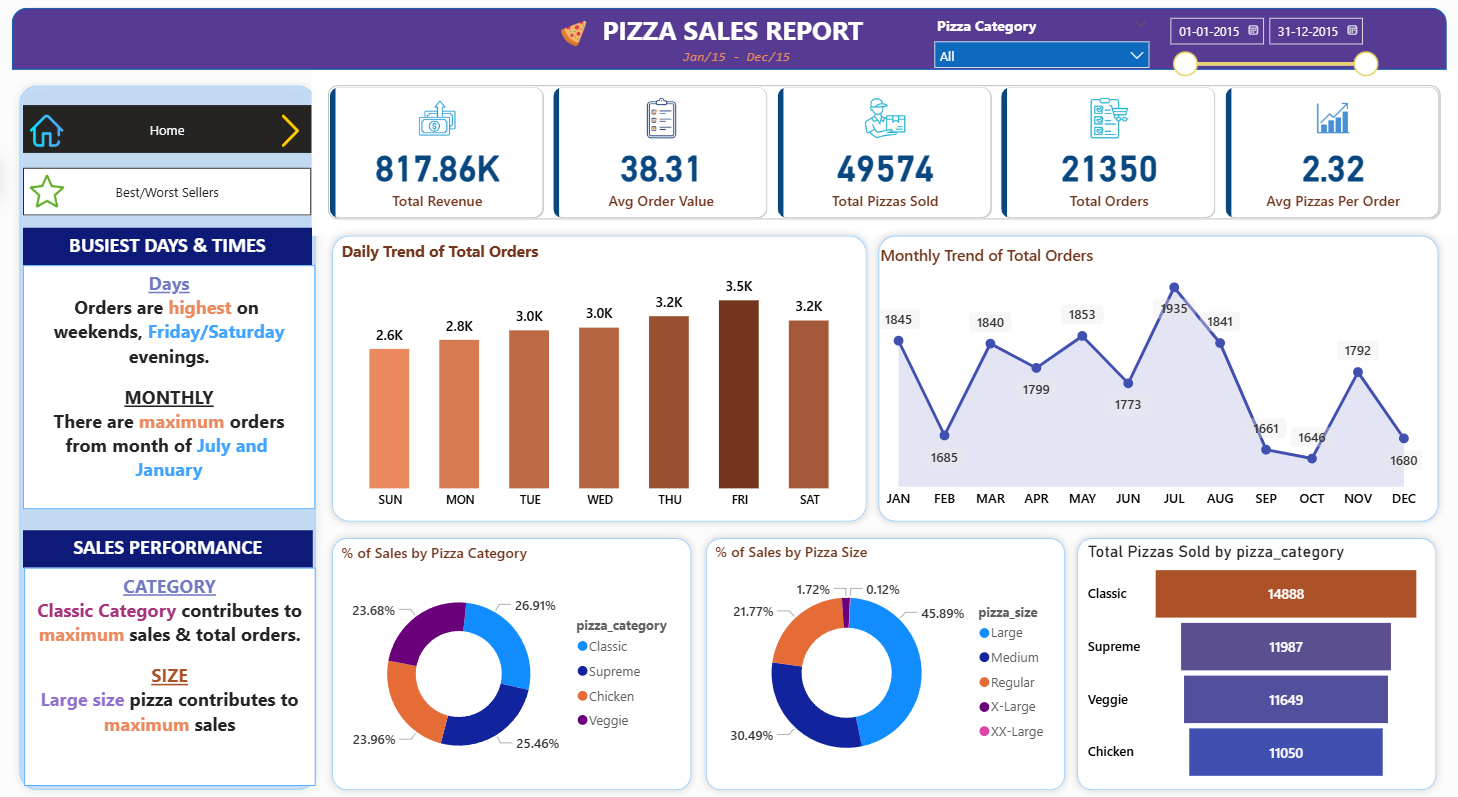

The page's visual inventory and layout, read from the dashboard file:
{"tool":"powerbi","page":{"name":"Home","canvas":[1500,820],"ordinal":0},"visuals":[{"type":"shape","box":[14.2,80.8,320.2,739.5],"z":0},{"type":"cardVisual","fields":{"Data":["pizza_sales.Total Revenue","pizza_sales.Avg Order Value","pizza_sales.Total Pizzas Sold","pizza_sales.Total Orders","pizza_sales.Avg Pizzas Per Order"]},"box":[322.5,72.5,1177.5,171.2],"z":1000},{"type":"shape","box":[13.8,8.8,1473.8,63.8],"z":2000},{"type":"textbox","box":[607.5,8.8,295,55],"z":3000},{"type":"textbox","box":[698.8,45,145,27.5],"z":4000},{"type":"image","box":[565,22,53,27],"z":5000},{"type":"shape","box":[335,235,565,310],"z":6000},{"type":"columnChart","title":"Daily Trend of Total Orders","fields":{"Category":["pizza_sales.order_day"],"Y":["pizza_sales.Total Orders"]},"box":[347.5,247.5,541.2,285],"z":7000},{"type":"shape","box":[896.2,235,591.2,310],"z":8000},{"type":"areaChart","title":"Monthly Trend of Total Orders","fields":{"Category":["pizza_sales.order_month"],"Y":["pizza_sales.Total Orders"]},"box":[911.6,252.1,556,280.7],"z":9000},{"type":"shape","box":[335,545,385,275],"z":10000},{"type":"shape","box":[718.8,545,385,275],"z":11000},{"type":"shape","box":[1100,545,385,275],"z":12000},{"type":"donutChart","title":"% of Sales by Pizza Category","fields":{"Category":["pizza_sales.pizza_category"],"Y":["pizza_sales.Total Revenue"]},"box":[347.5,558.8,360,250],"z":13000},{"type":"donutChart","title":"% of Sales by Pizza Size","fields":{"Y":["pizza_sales.Total Revenue"],"Category":["pizza_sales.pizza_size"]},"box":[731.2,557.5,360,250],"z":14000},{"type":"funnel","fields":{"Category":["pizza_sales.pizza_category"],"Y":["pizza_sales.Total Pizzas Sold"]},"box":[1113.8,557.5,352.5,251.2],"z":15000},{"type":"textbox","box":[25.7,234.9,296.5,38.5],"z":16000},{"type":"textbox","box":[25.7,273.4,300.4,250.3],"z":17000},{"type":"textbox","box":[25.5,545.4,297.5,38.3],"z":18000},{"type":"textbox","box":[26.9,583.7,298.9,223.8],"z":19000},{"type":"slicer","fields":{"Values":["pizza_sales.pizza_category"]},"box":[950.6,11.3,240.8,60.9],"z":20000},{"type":"slicer","fields":{"Values":["pizza_sales.order_date"]},"box":[1191.2,9,234.9,71.9],"z":21000},{"type":"pageNavigator","box":[25.5,109.1,296.1,49.6],"z":22000},{"type":"pageNavigator","box":[25.5,172.8,296.1,49.6],"z":23000},{"type":"image","box":[274.8,117.6,51,34],"z":24000},{"type":"image","box":[29.8,117.6,41.1,34],"z":25000},{"type":"image","box":[29.8,179.9,41.1,35.4],"z":26000}]}

Visuals, with their boxes in screenshot pixels (x1, y1, x2, y2), scaled from the page's 1500x820 canvas onto the 1458x797 screenshot:
shape: {"left": 14, "top": 79, "right": 325, "bottom": 796}
cardVisual - pizza_sales.Total Revenue x pizza_sales.Avg Order Value: {"left": 313, "top": 70, "right": 1457, "bottom": 237}
shape: {"left": 13, "top": 9, "right": 1446, "bottom": 71}
textbox: {"left": 590, "top": 9, "right": 877, "bottom": 62}
textbox: {"left": 679, "top": 44, "right": 820, "bottom": 70}
image: {"left": 549, "top": 21, "right": 601, "bottom": 48}
shape: {"left": 326, "top": 228, "right": 875, "bottom": 530}
"Daily Trend of Total Orders" columnChart: {"left": 338, "top": 241, "right": 864, "bottom": 518}
shape: {"left": 871, "top": 228, "right": 1446, "bottom": 530}
"Monthly Trend of Total Orders" areaChart: {"left": 886, "top": 245, "right": 1427, "bottom": 518}
shape: {"left": 326, "top": 530, "right": 700, "bottom": 796}
shape: {"left": 699, "top": 530, "right": 1073, "bottom": 796}
shape: {"left": 1069, "top": 530, "right": 1443, "bottom": 796}
"% of Sales by Pizza Category" donutChart: {"left": 338, "top": 543, "right": 688, "bottom": 786}
"% of Sales by Pizza Size" donutChart: {"left": 711, "top": 542, "right": 1061, "bottom": 785}
funnel - pizza_sales.pizza_category x pizza_sales.Total Pizzas Sold: {"left": 1083, "top": 542, "right": 1425, "bottom": 786}
textbox: {"left": 25, "top": 228, "right": 313, "bottom": 266}
textbox: {"left": 25, "top": 266, "right": 317, "bottom": 509}
textbox: {"left": 25, "top": 530, "right": 314, "bottom": 567}
textbox: {"left": 26, "top": 567, "right": 317, "bottom": 785}
slicer - pizza_sales.pizza_category: {"left": 924, "top": 11, "right": 1158, "bottom": 70}
slicer - pizza_sales.order_date: {"left": 1158, "top": 9, "right": 1386, "bottom": 79}
pageNavigator: {"left": 25, "top": 106, "right": 313, "bottom": 154}
pageNavigator: {"left": 25, "top": 168, "right": 313, "bottom": 216}
image: {"left": 267, "top": 114, "right": 317, "bottom": 147}
image: {"left": 29, "top": 114, "right": 69, "bottom": 147}
image: {"left": 29, "top": 175, "right": 69, "bottom": 209}
